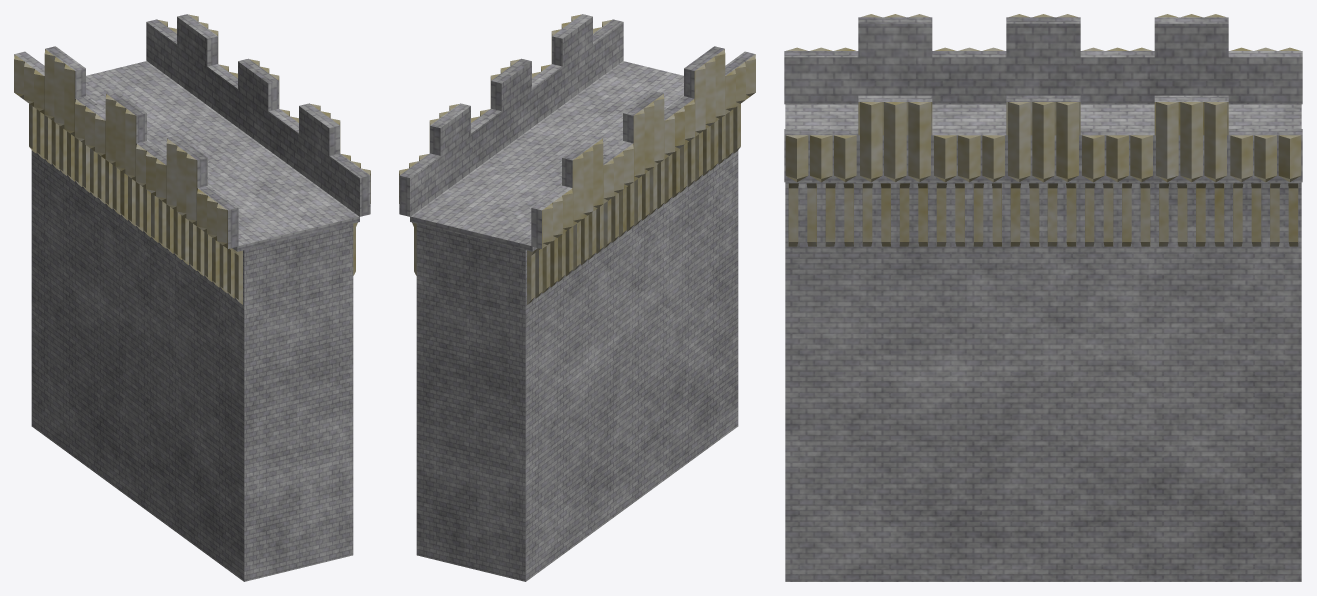
Rendered from Wall.obj.
The picture shows the model from 3 angles, left to right: view 1: azimuth 30°, elevation 25°; view 2: azimuth 150°, elevation 25°; view 3: azimuth 270°, elevation 25°; orthographic projection. The views are drawn at different scales.
Visible parts, largest first — view 1: 円柱.001_円柱.014; view 2: 円柱.001_円柱.014; view 3: 円柱.001_円柱.014.
Part boxes in pixels (x1=…): 円柱.001_円柱.014: x1=14, y1=14, x2=370, y2=581; 円柱.001_円柱.014: x1=399, y1=14, x2=755, y2=581; 円柱.001_円柱.014: x1=784, y1=14, x2=1302, y2=581.
Size of the model in its own units: 5.83 by 14.6 by 14.
1 material, 1 textured.
